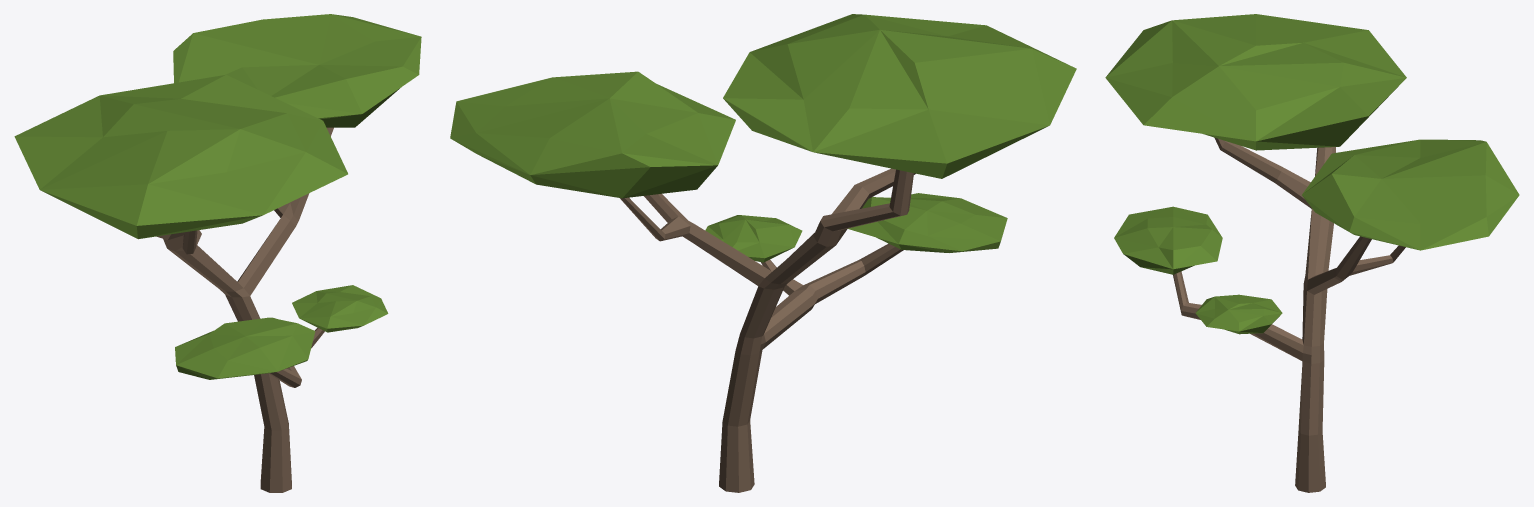
File: Tree_1.fbx
The picture shows the model from 3 angles, left to right: view 1: azimuth 30°, elevation 25°; view 2: azimuth 150°, elevation 25°; view 3: azimuth 270°, elevation 25°; orthographic projection. The views are drawn at different scales.
Parts seen in each view (by area): view 1: Tree_1; view 2: Tree_1; view 3: Tree_1.
Boxes of the visible parts, <box> form: Tree_1: <box>14,14,421,492</box>; Tree_1: <box>450,14,1076,492</box>; Tree_1: <box>1105,14,1519,492</box>.
Bounding box in the file's own units: 564 × 466 × 474.
